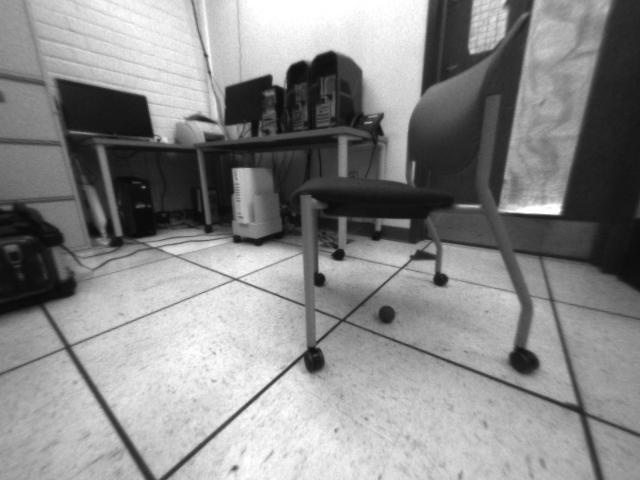dogtoy: (370, 301, 404, 327)
